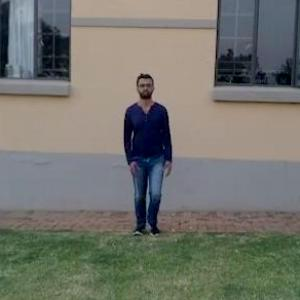follow: (123, 71, 175, 236)
